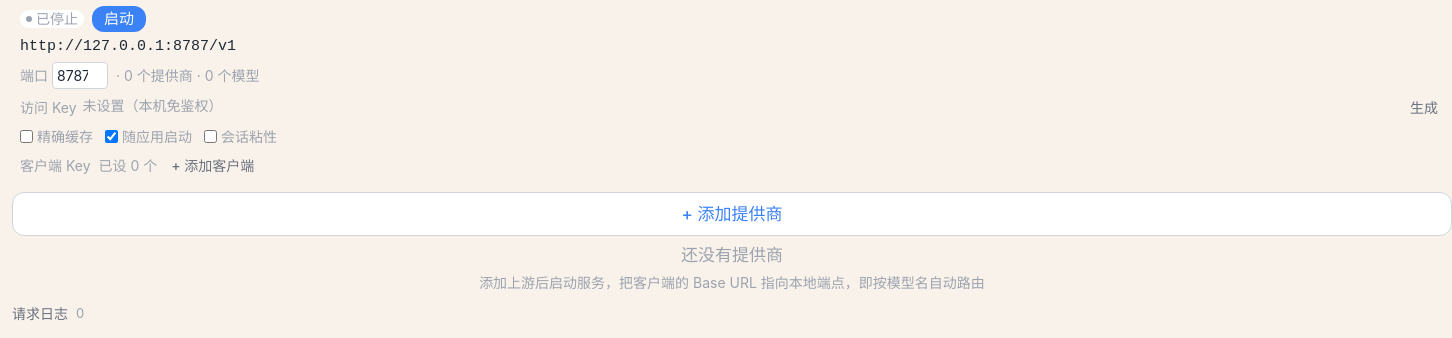
Test case: RelayPanel › starts and stops the relay
Click the button "启动" at (119, 19), box [92, 6, 146, 32]
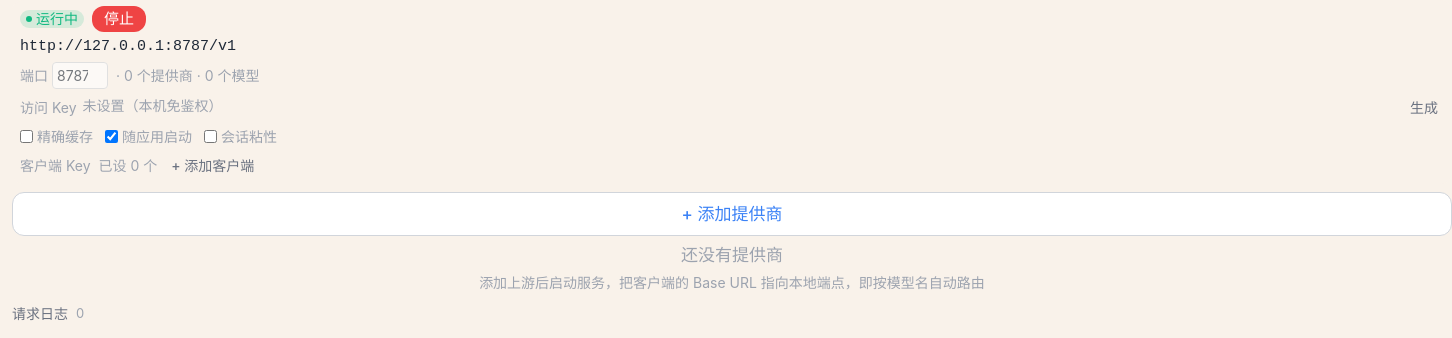
expect the text "运行中" is shown: met, box [20, 10, 84, 28]
Click the button "停止" at (119, 19), box [92, 6, 146, 32]
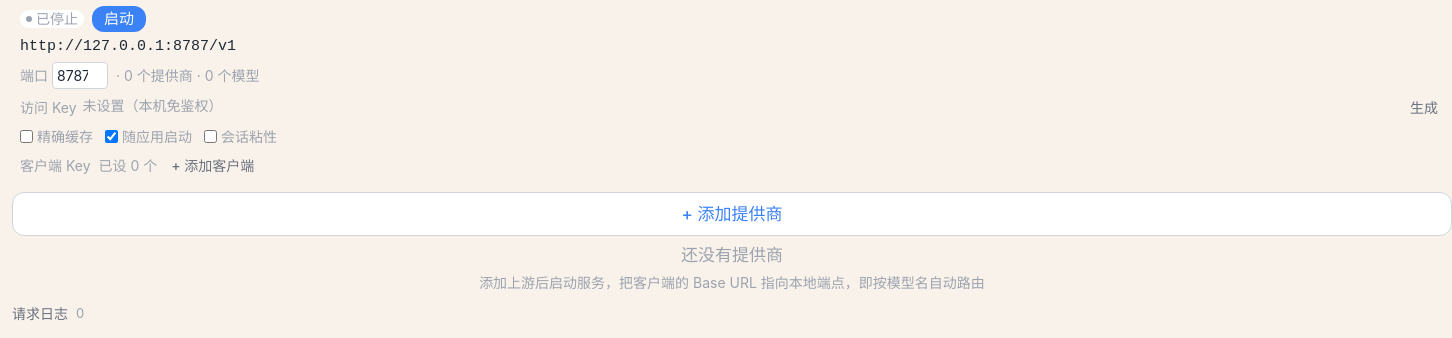
expect the text "已停止" is shown: met, box [20, 10, 84, 28]
